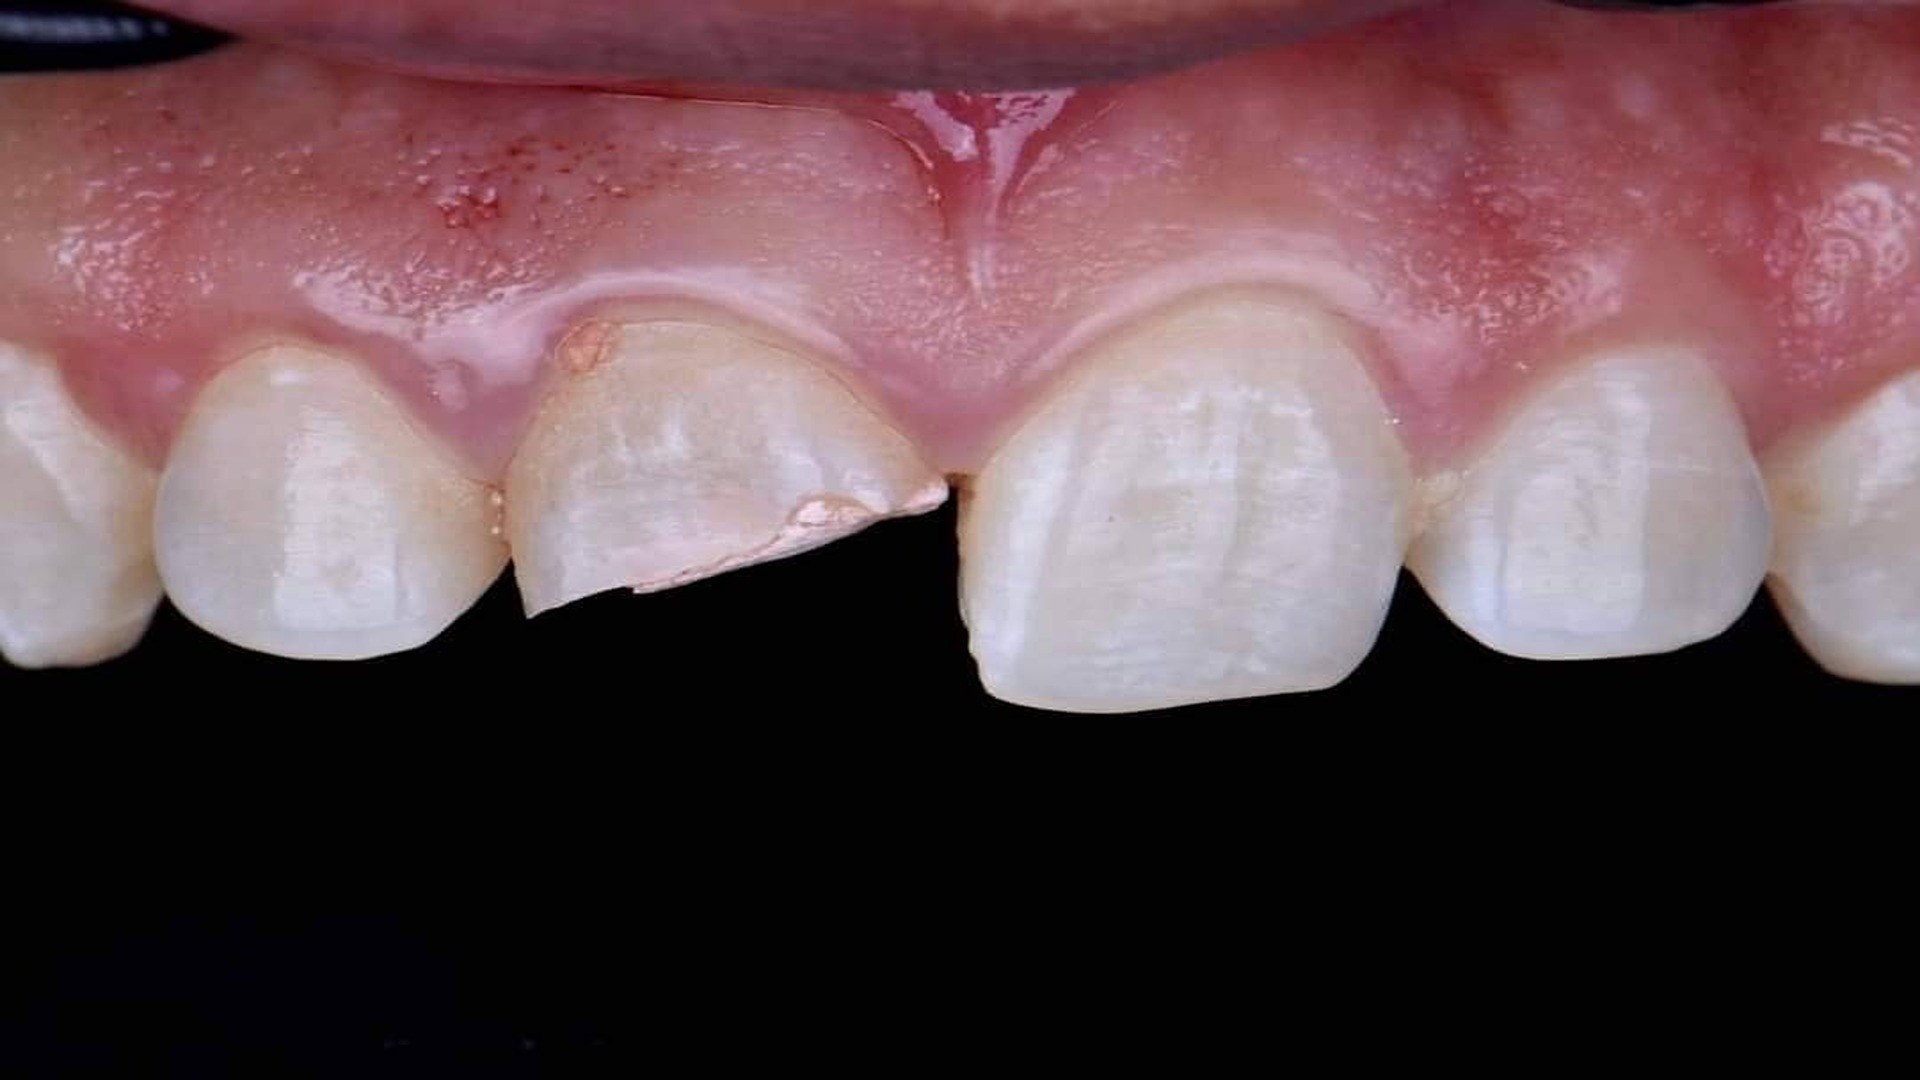tooth: (957, 278, 1410, 713), (501, 294, 949, 618), (1404, 345, 1774, 661), (152, 338, 512, 661)
